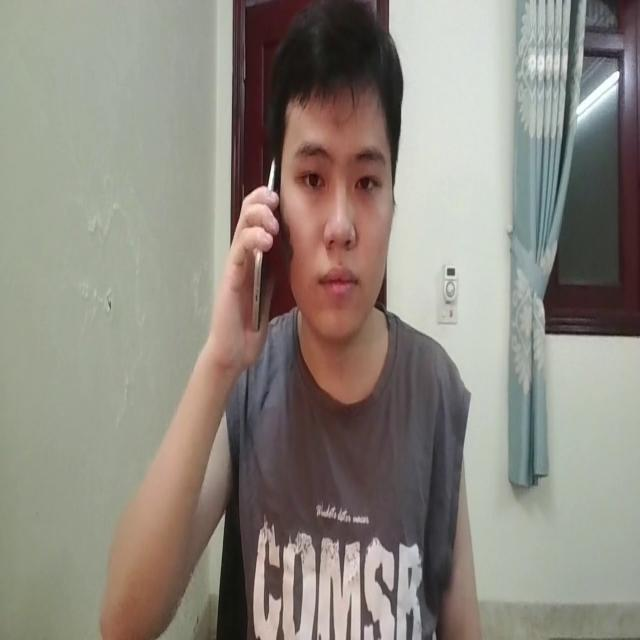phone: (248, 149, 284, 342)
student: (99, 6, 487, 640)
